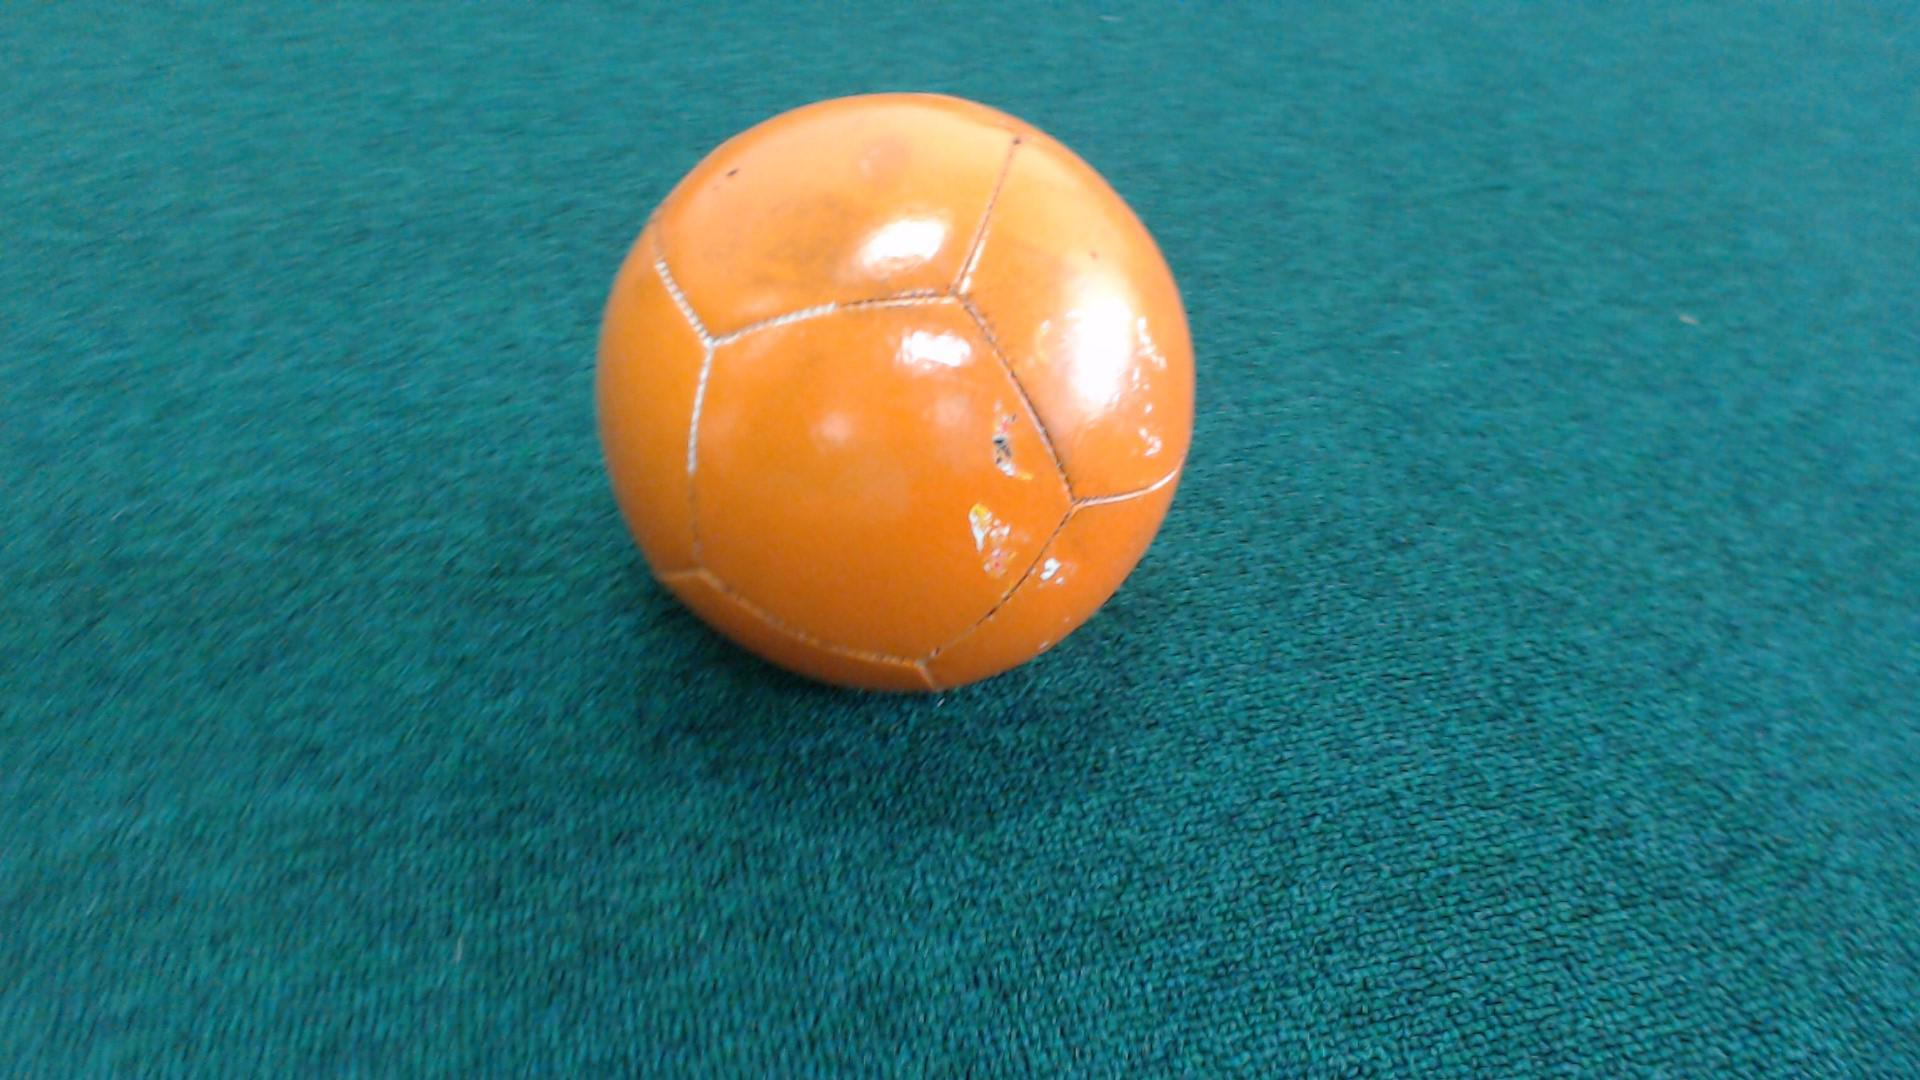bola: (563, 71, 1217, 735)
